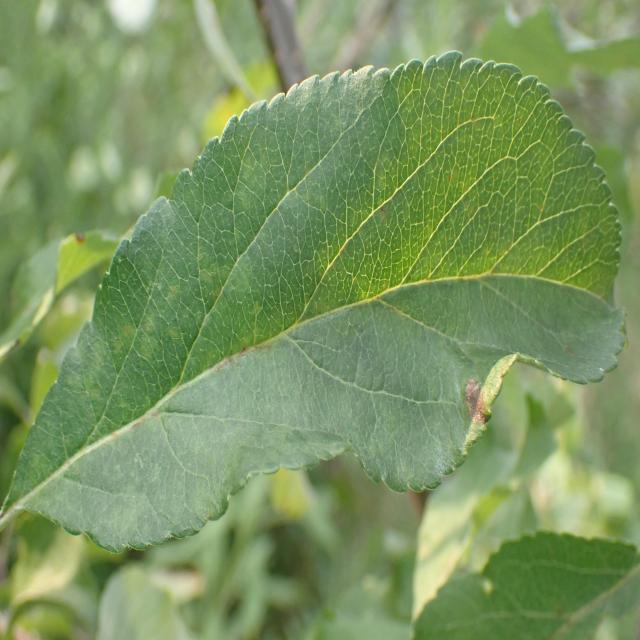scab: (47, 100, 618, 478)
